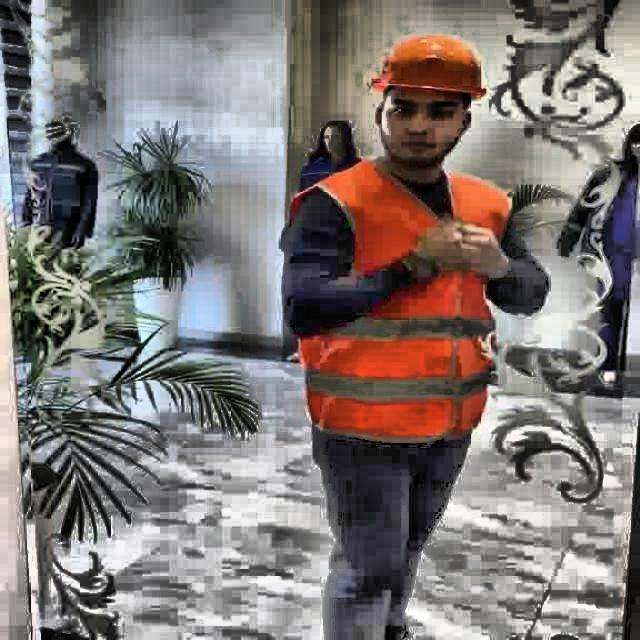safety_jacket: (288, 163, 518, 445)
